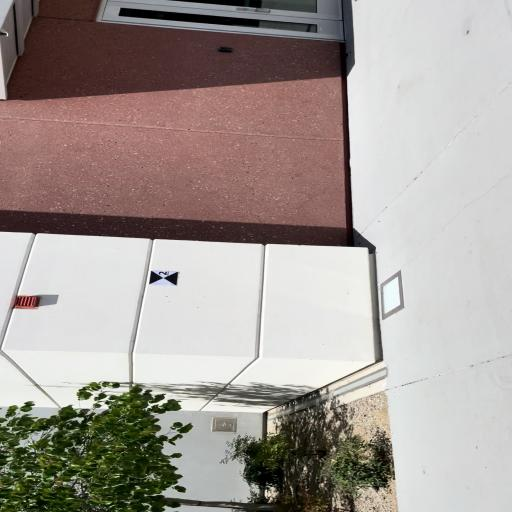target2: (149, 270, 178, 285)
